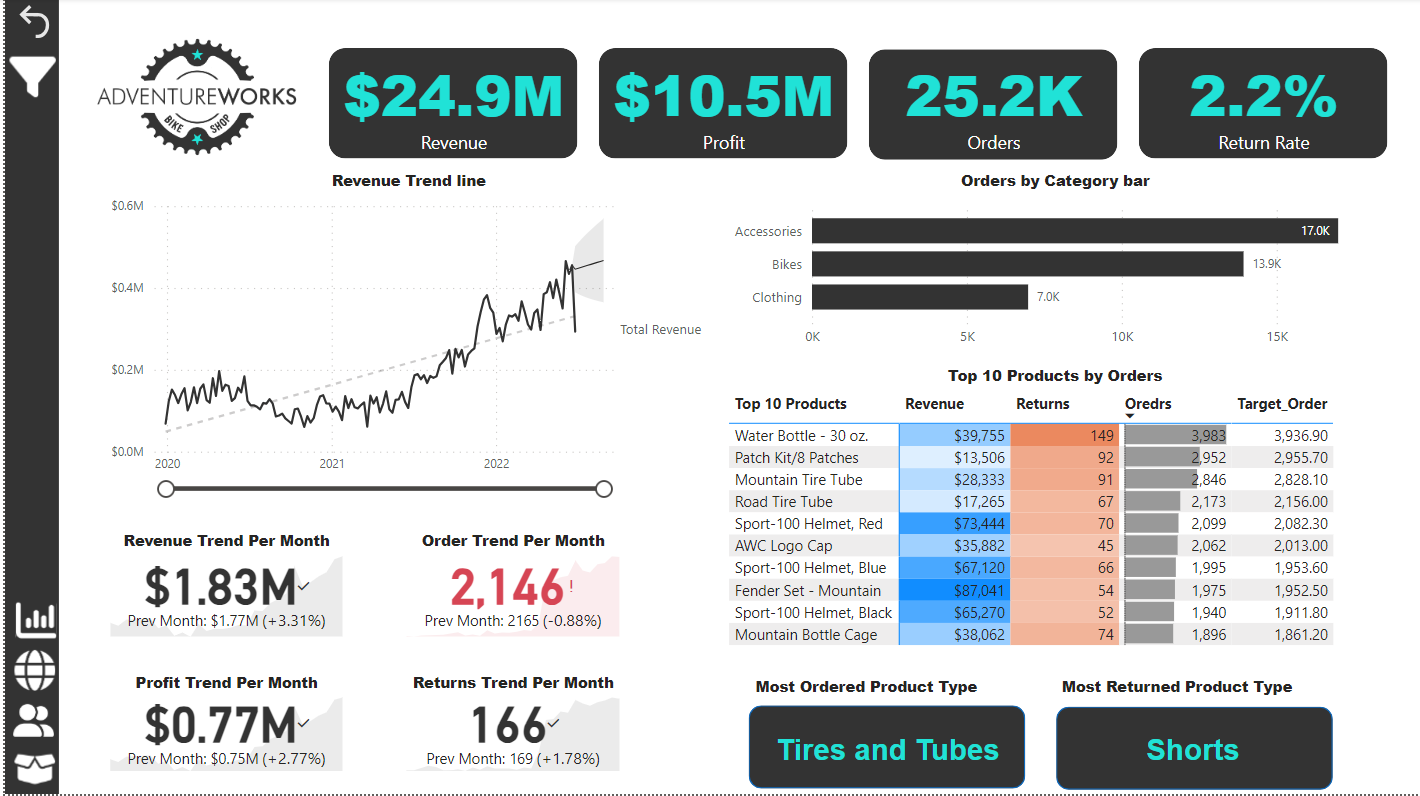

Layout of this report page (visuals, bound fields, positions):
{"tool":"powerbi","page":{"name":"Exce Dashboard","canvas":[1280,720],"ordinal":0},"visuals":[{"type":"card","title":"Revenue","fields":{"Values":["MeasureTablewithoutdax.Total Revenue"]},"box":[290,21.2,231.2,150],"z":0,"group":"g2"},{"type":"image","title":"Logo","box":[59.2,21.3,230.9,135],"z":0},{"type":"group","id":"g1","title":"KPI BG","box":[292.5,45,957.5,101.2],"z":0,"group":"g3"},{"type":"shape","title":"Revenue BG","box":[292.5,45,225,100],"z":0,"group":"g1"},{"type":"kpi","title":"Revenue Trend Per Month","fields":{"Indicator":["MeasureTablewithoutdax.Total Revenue"],"TrendLine":["Calendar Lookup.Start of Month"],"Goal":["MeasureTablewithoutdax.Previous month revenue"]},"box":[90,481.2,220,101.2],"z":0,"group":"g7"},{"type":"actionButton","box":[6.3,540,56.2,45],"z":0,"group":"g5"},{"type":"shape","title":"order card shape","box":[672.7,639.6,250,75],"z":0,"group":"g4"},{"type":"shape","title":"return card shape","box":[950.7,639.9,250,75],"z":0,"group":"g6"},{"type":"shape","title":"Option Panel","box":[0,0,48.8,720],"z":1000},{"type":"group","id":"g2","title":"KPI Values","box":[290,21.2,963.8,150],"z":1000,"group":"g3"},{"type":"card","title":"Profit","fields":{"Values":["MeasureTablewithoutdax.Profit"]},"box":[533.8,21.2,231.2,150],"z":1000,"group":"g2"},{"type":"shape","title":"Profit BG","box":[536.7,45,225,100],"z":1000,"group":"g1"},{"type":"kpi","title":"Profit Trend Per Month","fields":{"TrendLine":["Calendar Lookup.Start of Month"],"Indicator":["MeasureTablewithoutdax.Profit"],"Goal":["MeasureTablewithoutdax.Previous Month Profit"]},"box":[90,608.7,220,95],"z":1000,"group":"g7"},{"type":"card","title":"order card","fields":{"Values":["Min(Product Subcategories Lookup.SubcategoryName)"]},"box":[673.2,648.9,252.5,57.5],"z":1000,"group":"g4"},{"type":"card","title":"return card","fields":{"Values":["Min(Product Subcategories Lookup.SubcategoryName)"]},"box":[948.2,648.9,252.5,57.5],"z":1000,"group":"g6"},{"type":"actionButton","box":[4.6,675,56.2,45],"z":1000,"group":"g5"},{"type":"group","id":"g3","title":"KPI Exce","box":[290,21.2,963.8,150],"z":2000},{"type":"card","title":"Orders","fields":{"Values":["MeasureTablewithoutdax.Total Orders"]},"box":[778.8,21.2,231.2,150],"z":2000,"group":"g2"},{"type":"shape","title":"Orders BG","box":[780.8,46.2,225,100],"z":2000,"group":"g1"},{"type":"kpi","title":"Order Trend Per Month","fields":{"TrendLine":["Calendar Lookup.Start of Month"],"Indicator":["MeasureTablewithoutdax.Total Orders"],"Goal":["MeasureTablewithoutdax.Previous month order"]},"box":[357.5,481.2,202.5,101.2],"z":2000,"group":"g7"},{"type":"textbox","title":"order card title","box":[673.5,607.6,232.1,32],"z":2000,"group":"g4"},{"type":"textbox","title":"Return card title","box":[950.6,607.6,233.3,32],"z":2000,"group":"g6"},{"type":"actionButton","box":[3.8,630,56.2,45],"z":2000,"group":"g5"},{"type":"card","title":"Return Rate","fields":{"Values":["MeasureTablewithoutdax.return rate"]},"box":[1022.5,21.2,231.2,150],"z":3000,"group":"g2"},{"type":"shape","title":"RR BG","box":[1025,45,225,100],"z":3000,"group":"g1"},{"type":"lineChart","title":"Revenue Trend line","fields":{"Y":["MeasureTablewithoutdax.Total Revenue"],"Category":["Calendar Lookup.Times Hierarchy.Year","Calendar Lookup.Times Hierarchy.Start of Month","Calendar Lookup.Times Hierarchy.Start of Week","Calendar Lookup.Times Hierarchy.Date"]},"box":[90,156.3,549.5,298.4],"z":3000},{"type":"actionButton","box":[5.5,585,56.2,45],"z":3000,"group":"g5"},{"type":"group","id":"g4","title":"most order product kpi","box":[672.7,607.6,253,107],"z":3000,"group":"g6"},{"type":"kpi","title":"Returns Trend Per Month","fields":{"TrendLine":["Calendar Lookup.Start of Month"],"Indicator":["MeasureTablewithoutdax.Total Returns"],"Goal":["MeasureTablewithoutdax.Previous Month returns"]},"box":[357.5,608.7,202.5,95],"z":3000,"group":"g7"},{"type":"barChart","title":"Orders by Category bar","fields":{"Category":["Product Categories Lookup.CategoryName"],"Y":["MeasureTablewithoutdax.Total Orders"]},"box":[650.2,156.3,599.3,168.2],"z":4000},{"type":"pivotTable","title":"Top 10 Products by Orders","fields":{"Rows":["Product Lookup.ProductName"],"Values":["MeasureTablewithoutdax.Total Revenue","MeasureTablewithoutdax.Total Returns","MeasureTablewithoutdax.Total Orders","MeasureTablewithoutdax.Target_Order"]},"box":[650.2,332.8,599.3,262.9],"z":5000},{"type":"actionButton","title":"Reset Button","box":[6.2,1.2,52.5,40],"z":6000},{"type":"group","id":"g5","title":"Navigation Buttons","box":[3.8,540,58.8,180],"z":7000},{"type":"actionButton","title":"Slicer panel Button","box":[0,46.2,58.8,50],"z":8000},{"type":"group","id":"g6","title":"Return Product type","box":[672.7,607.6,528.2,107.8],"z":10000},{"type":"group","id":"g7","title":"KPI Trend","box":[90,481.2,470,222.5],"z":11000}]}

Visuals, with their boxes on the page's 1280x720 design canvas (x1, y1, x2, y2). These are canvas units, not pixel positions in the 1420x796 screenshot, which may show the page scaled, cropped or inside an application window:
"Revenue" card: crop(290, 21, 521, 171)
"Logo" image: crop(59, 21, 290, 156)
"KPI BG" group: crop(292, 45, 1250, 146)
"Revenue BG" shape: crop(292, 45, 518, 145)
"Revenue Trend Per Month" kpi: crop(90, 481, 310, 582)
actionButton: crop(6, 540, 62, 585)
"order card shape" shape: crop(673, 640, 923, 715)
"return card shape" shape: crop(951, 640, 1201, 715)
"Option Panel" shape: crop(0, 0, 49, 720)
"KPI Values" group: crop(290, 21, 1254, 171)
"Profit" card: crop(534, 21, 765, 171)
"Profit BG" shape: crop(537, 45, 762, 145)
"Profit Trend Per Month" kpi: crop(90, 609, 310, 704)
"order card" card: crop(673, 649, 926, 706)
"return card" card: crop(948, 649, 1201, 706)
actionButton: crop(5, 675, 61, 720)
"KPI Exce" group: crop(290, 21, 1254, 171)
"Orders" card: crop(779, 21, 1010, 171)
"Orders BG" shape: crop(781, 46, 1006, 146)
"Order Trend Per Month" kpi: crop(358, 481, 560, 582)
"order card title" textbox: crop(674, 608, 906, 640)
"Return card title" textbox: crop(951, 608, 1184, 640)
actionButton: crop(4, 630, 60, 675)
"Return Rate" card: crop(1022, 21, 1254, 171)
"RR BG" shape: crop(1025, 45, 1250, 145)
"Revenue Trend line" lineChart: crop(90, 156, 640, 455)
actionButton: crop(6, 585, 62, 630)
"most order product kpi" group: crop(673, 608, 926, 715)
"Returns Trend Per Month" kpi: crop(358, 609, 560, 704)
"Orders by Category bar" barChart: crop(650, 156, 1250, 324)
"Top 10 Products by Orders" pivotTable: crop(650, 333, 1250, 596)
"Reset Button" actionButton: crop(6, 1, 59, 41)
"Navigation Buttons" group: crop(4, 540, 63, 720)
"Slicer panel Button" actionButton: crop(0, 46, 59, 96)
"Return Product type" group: crop(673, 608, 1201, 715)
"KPI Trend" group: crop(90, 481, 560, 704)
